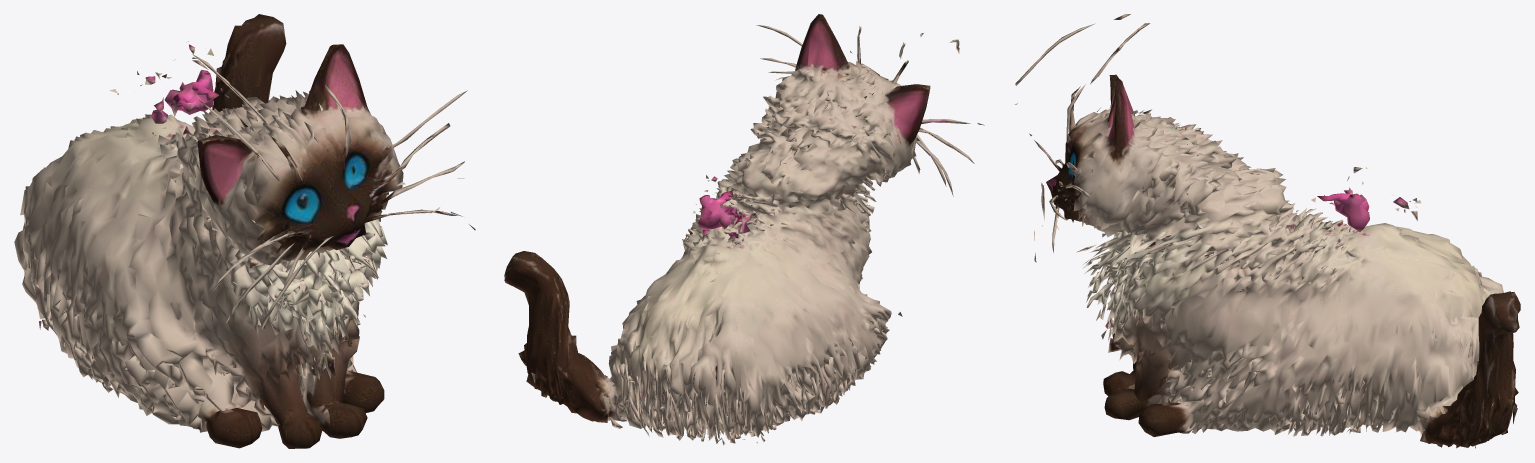
The model's file is gpu-source.glb.
3 views of the same model, side by side, from view 1: azimuth 30°, elevation 25°; view 2: azimuth 150°, elevation 25°; view 3: azimuth 270°, elevation 25° (orthographic). The views are drawn at different scales.
Parts seen in each view (by area): view 1: textured; view 2: textured; view 3: textured.
Part boxes in pixels (x1,y1,x2,y2): textured: (14, 14, 475, 448); textured: (504, 14, 984, 445); textured: (1014, 14, 1520, 448).
Bounding box in the file's own units: 1.28 × 1.48 × 1.97.
Materials: 1 (1 with a texture image).
